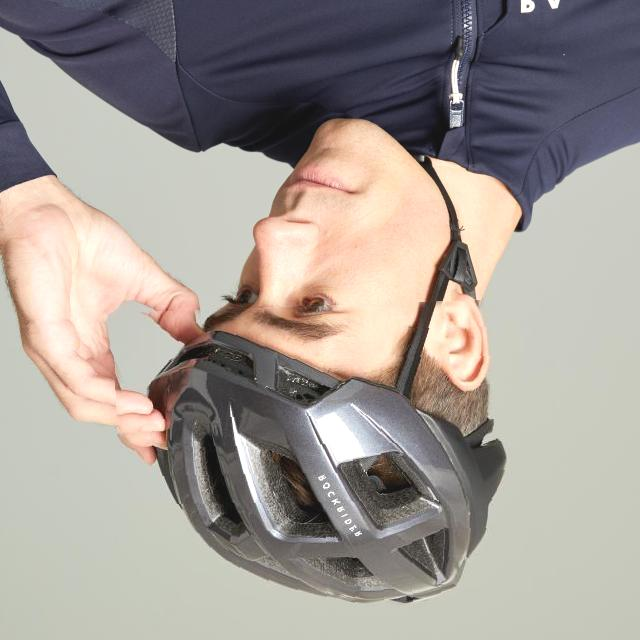helmet: (115, 301, 560, 616)
